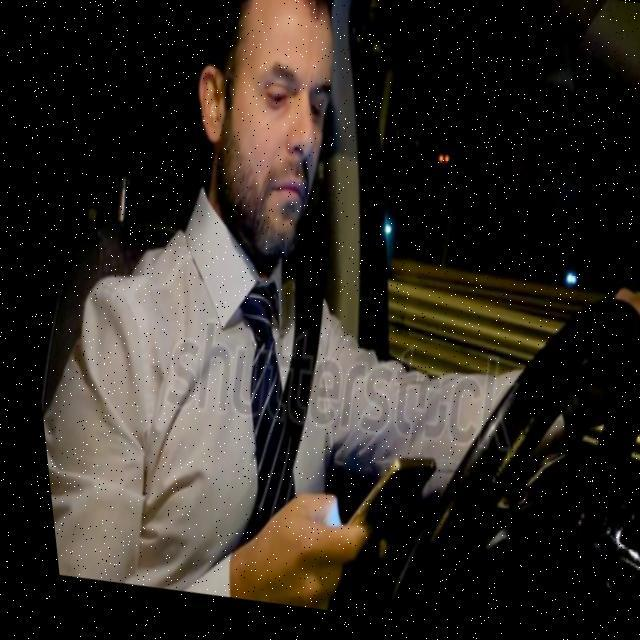PhoneCall: (312, 444, 436, 576)
